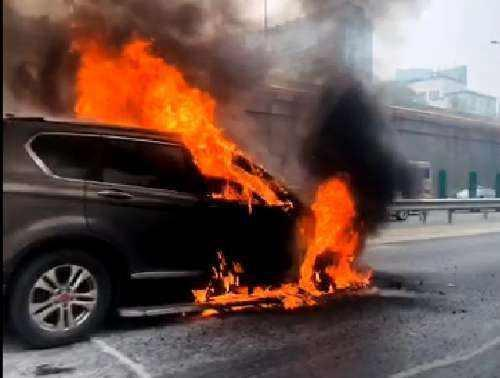fire: (66, 35, 292, 210), (306, 166, 377, 308), (189, 265, 302, 325)
